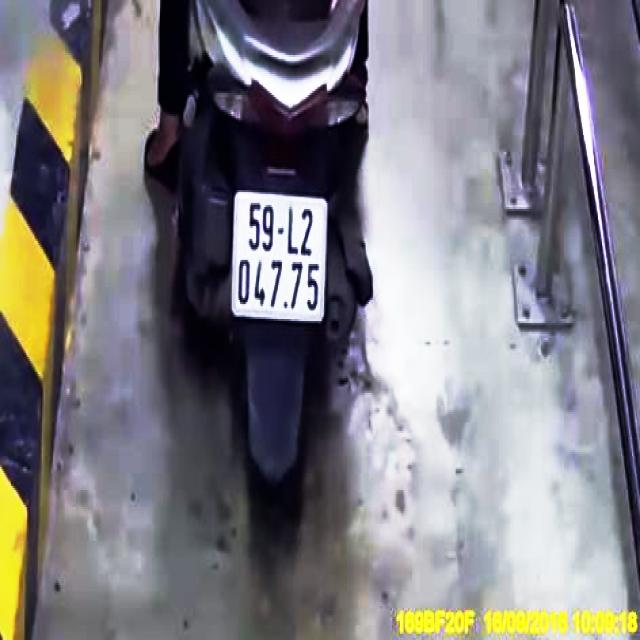license_plate: (229, 191, 328, 325)
